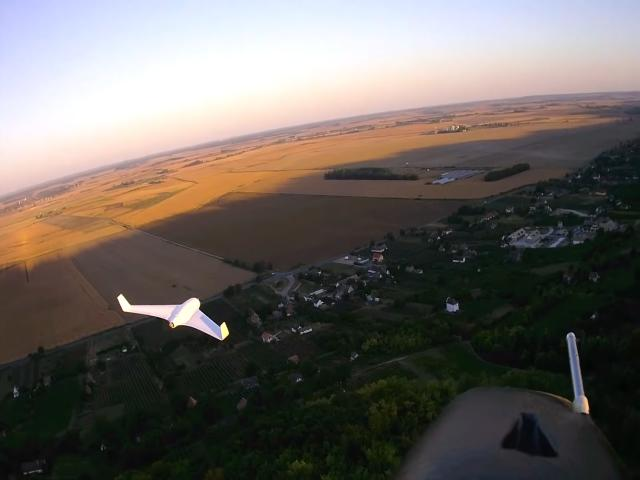plane: (117, 293, 228, 340)
